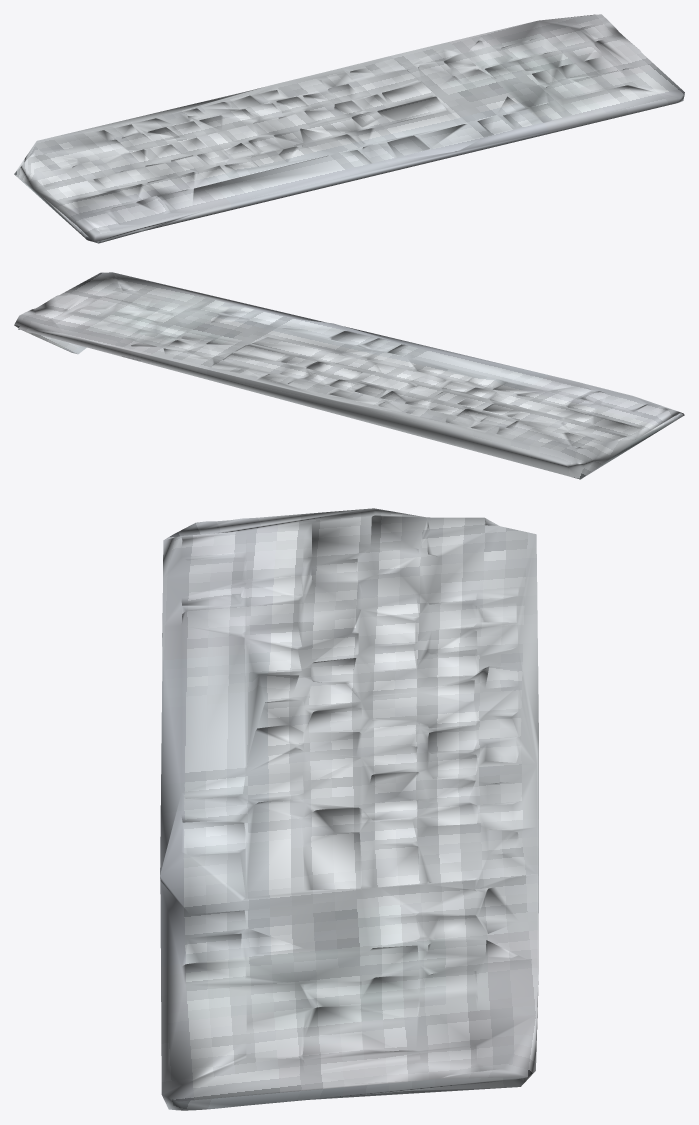
Rendered from Kanex_MultiSync_Wireless_Keyboard-low.glb.
3 views of the same model, one above another, from view 1: azimuth 30°, elevation 25°; view 2: azimuth 150°, elevation 25°; view 3: azimuth 270°, elevation 25° (orthographic). The views are drawn at different scales.
Visible parts, largest first — view 1: Kanex_MultiSync_Wireless_Keyboard; view 2: Kanex_MultiSync_Wireless_Keyboard; view 3: Kanex_MultiSync_Wireless_Keyboard.
Part boxes in pixels (x1=…): Kanex_MultiSync_Wireless_Keyboard: x1=14, y1=14, x2=684, y2=243; Kanex_MultiSync_Wireless_Keyboard: x1=14, y1=272, x2=684, y2=479; Kanex_MultiSync_Wireless_Keyboard: x1=160, y1=508, x2=538, y2=1110.
Size of the model in its own units: 0.4414 by 0.0185 by 0.1239.
Materials: 1 (1 with a texture image).
